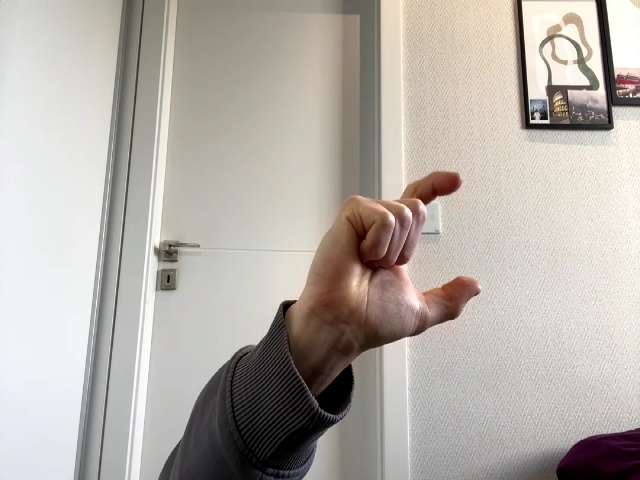C: (300, 172, 481, 352)
